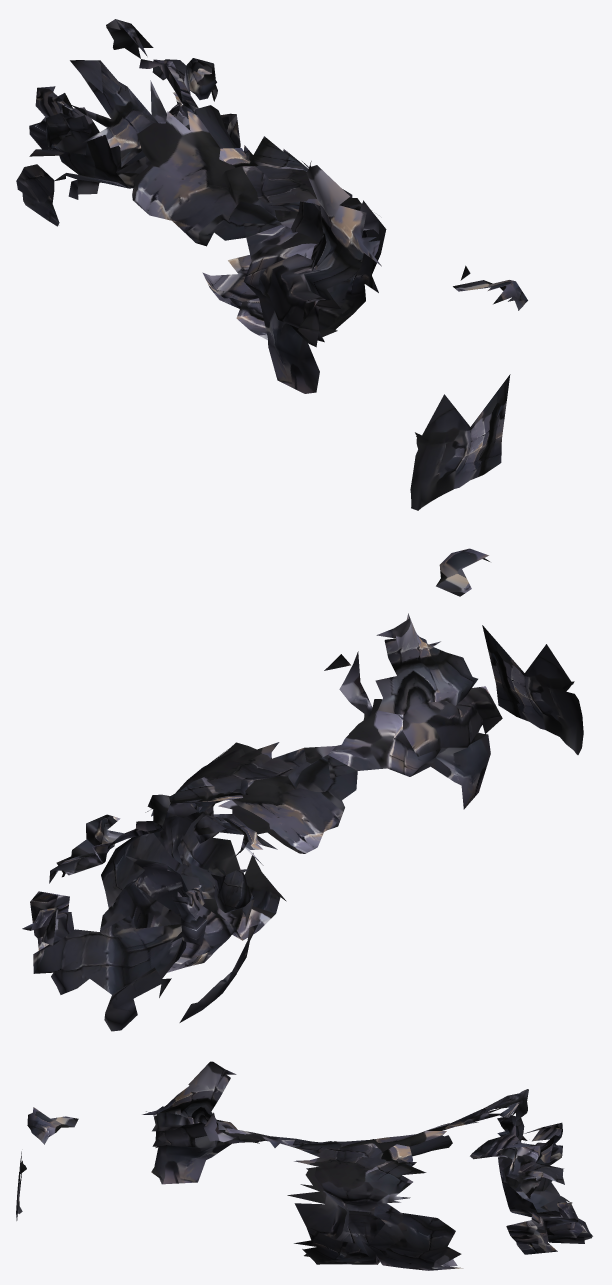
The model's file is RIP0 (2).obj.
3 renders of one model, top to bottom at view 1: azimuth 30°, elevation 25°; view 2: azimuth 150°, elevation 25°; view 3: azimuth 270°, elevation 25°, orthographic. The views are drawn at different scales.
Visible parts, largest first — view 1: RIP0; view 2: RIP0; view 3: RIP0.
Part boxes in pixels (x1,y1,x2,y2): RIP0: (16,19,527,510); RIP0: (22,548,583,1031); RIP0: (16,1061,592,1270).
Bounding box in the file's own units: 0.2978 × 0.3564 × 1.
